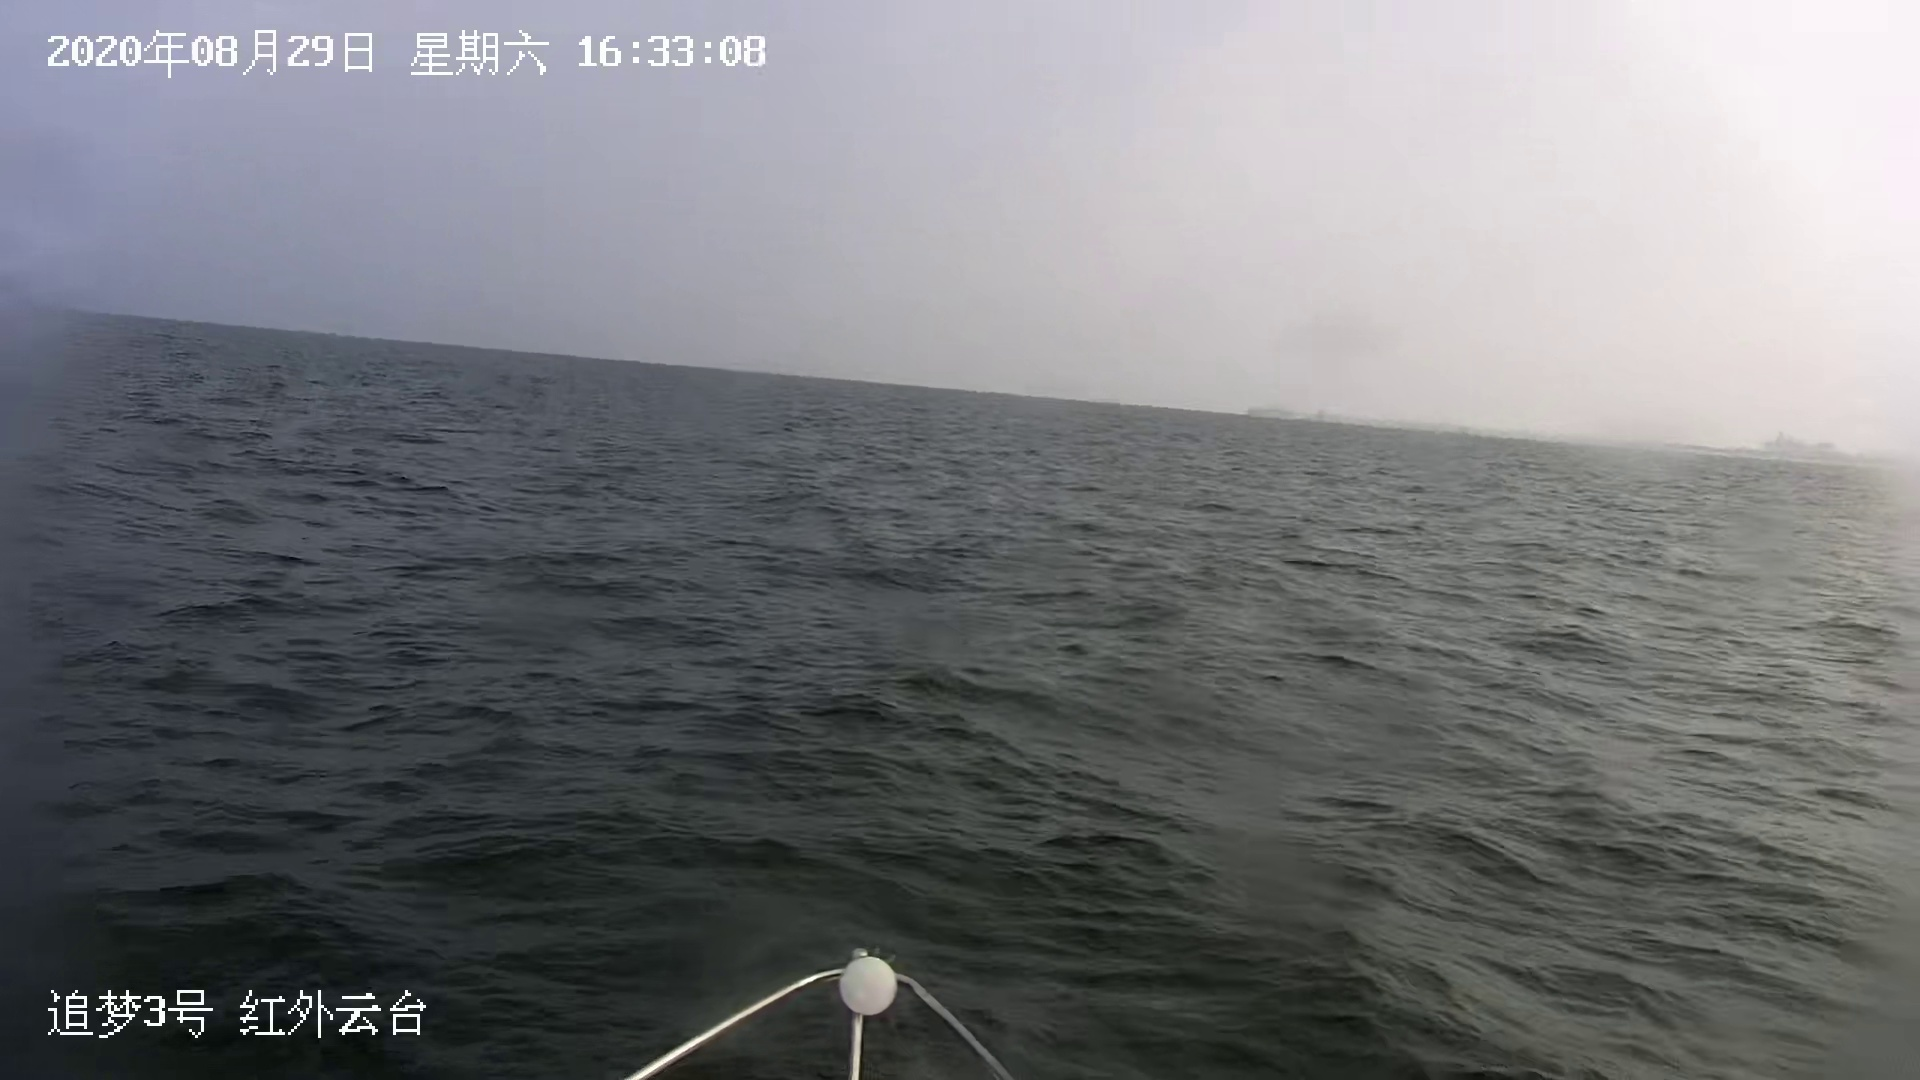coast: (1232, 405, 1920, 479)
